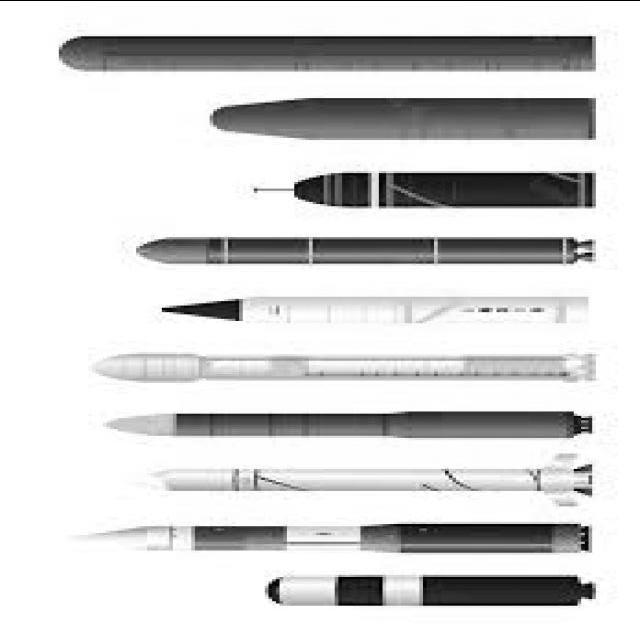Missile: (91, 394, 605, 458), (183, 84, 613, 156), (27, 26, 612, 74), (68, 344, 602, 394), (113, 225, 597, 279), (67, 517, 606, 563), (249, 566, 607, 630), (84, 347, 596, 389), (164, 286, 598, 334), (282, 168, 598, 211)
